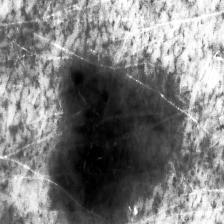Benign Marking or Mole: (50, 64, 182, 224)
